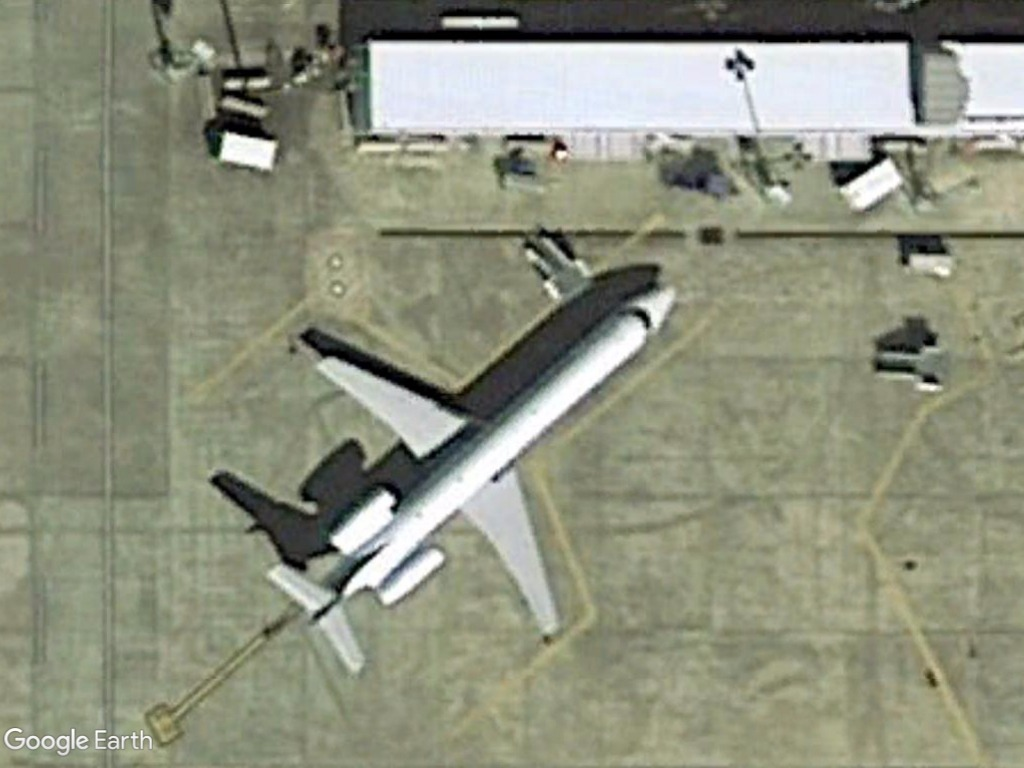chartered: (261, 279, 683, 680)
